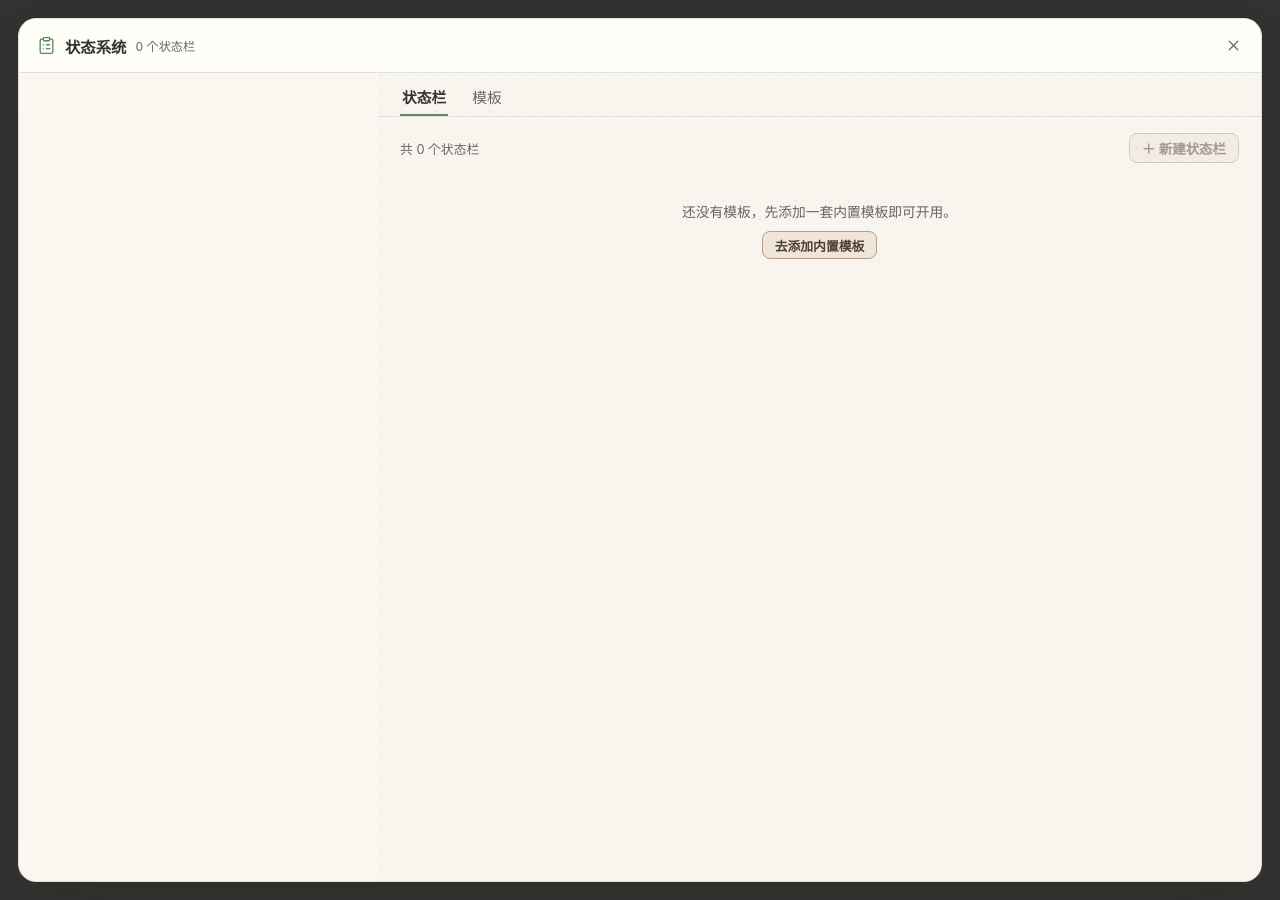
it: ChatStatusSystemPanel › 无模板时状态栏 tab 空态给「去添加内置模板」引导并切到模板 tab
Click the button "去添加内置模板" at x=820, y=245, box [762, 231, 877, 259]
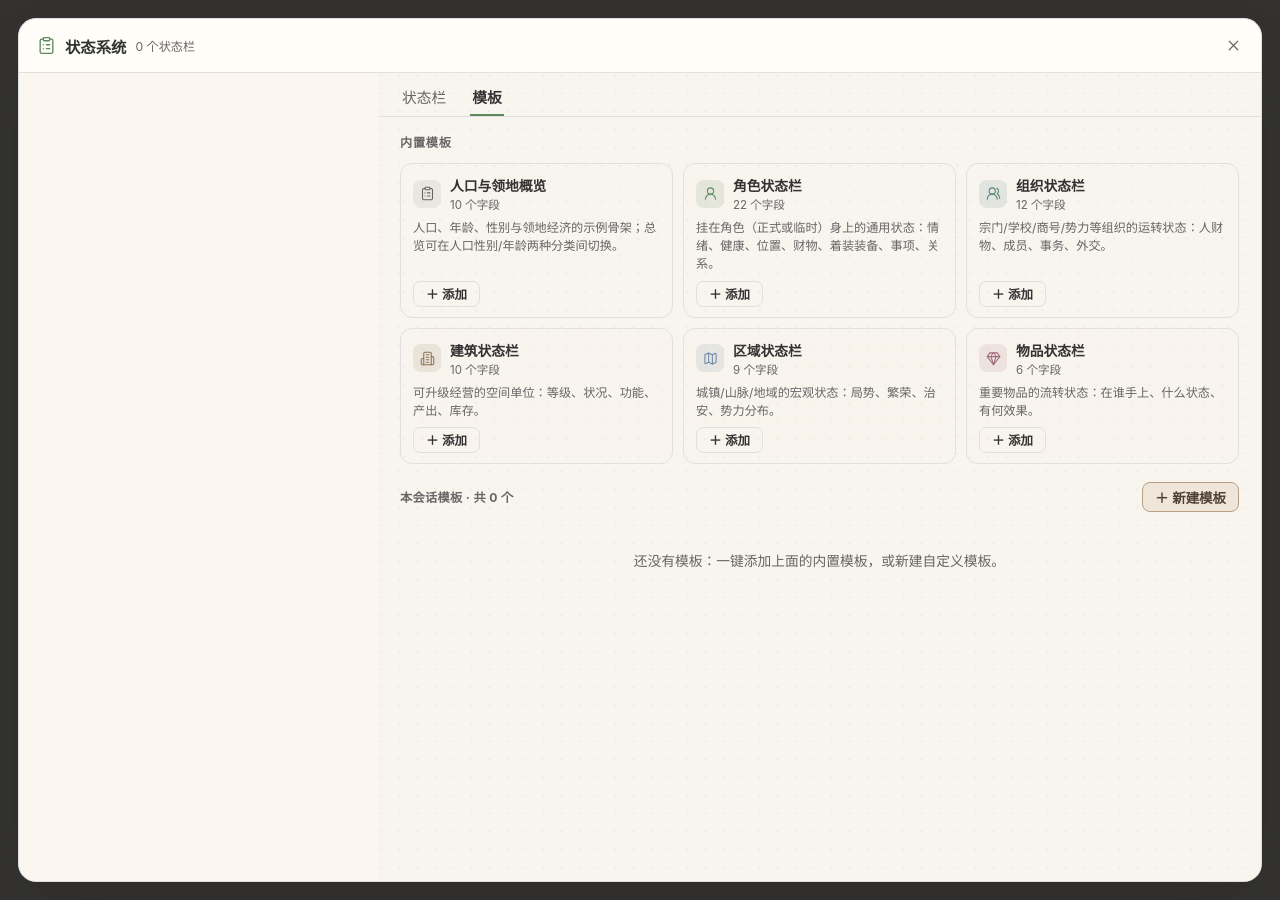
expect the number of elements with class "ssp-preset" is 6: met, box [400, 163, 673, 318]; [683, 163, 956, 318]; [966, 163, 1239, 318]; [400, 328, 673, 464]; [683, 328, 956, 464]; [966, 328, 1239, 464]
